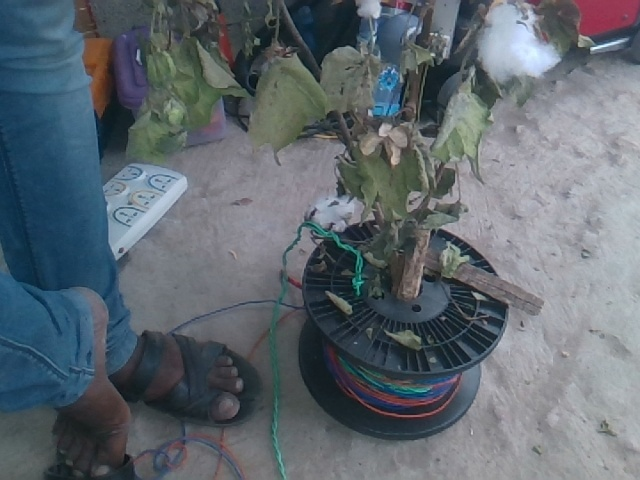cotton: (477, 3, 558, 81)
